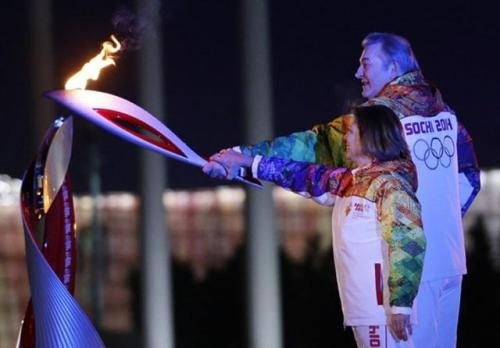fire: (62, 33, 123, 92)
